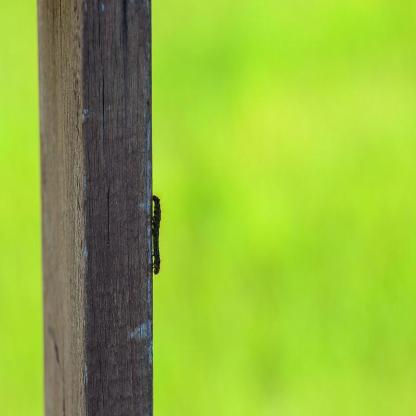armyworm: (149, 189, 164, 280)
